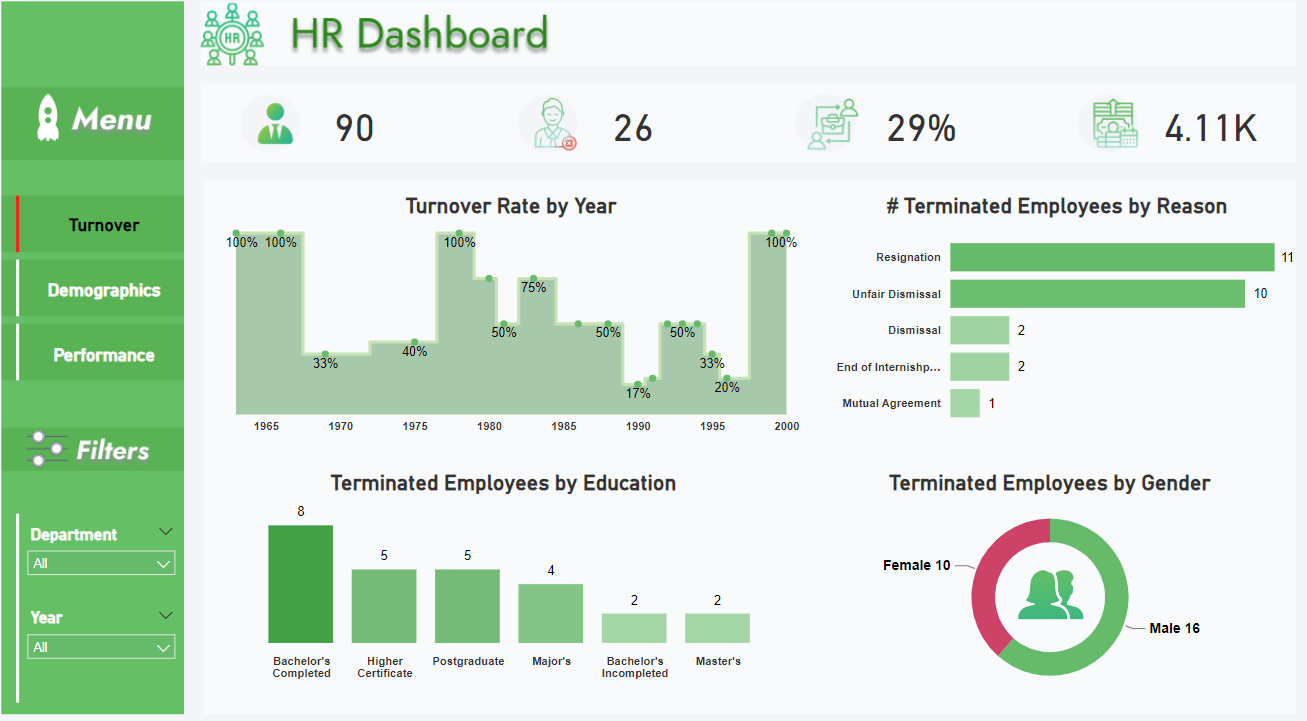

The dashboard page shown, as its layout file describes it:
{"tool":"powerbi","page":{"name":"Turnover","canvas":[1280,720],"ordinal":0},"visuals":[{"type":"lineChart","fields":{"Y":["_Measures_.Turnover Rate"],"Category":["HR (Fact).Birth Date.Variation.Date Hierarchy.Year","HR (Fact).Birth Date.Variation.Date Hierarchy.Quarter","HR (Fact).Birth Date.Variation.Date Hierarchy.Month","HR (Fact).Birth Date.Variation.Date Hierarchy.Day"]},"box":[226.2,189.3,570.2,248.8],"z":0},{"type":"card","fields":{"Values":["_Measures_.Total Employees"]},"box":[330,102.5,65,56.2],"z":1000},{"type":"card","fields":{"Values":["_Measures_.Turned Employees"]},"box":[595,102.5,65,56.2],"z":2000},{"type":"card","fields":{"Values":["_Measures_.Turnover Rate"]},"box":[855,102.5,95,56.2],"z":3000},{"type":"card","fields":{"Values":["_Measures_.Salay AVG"]},"box":[1131.2,102.5,93.8,56.2],"z":4000},{"type":"pageNavigator","box":[50,192.5,148.8,193.8],"z":5000},{"type":"slicer","fields":{"Values":["Department Bridge (Dim).Department"]},"box":[36.2,505,171.2,71.2],"z":6000},{"type":"slicer","fields":{"Values":["HR (Fact).Hire Date.Variation.Date Hierarchy.Year"]},"box":[36.2,585,171.2,71.2],"z":7000},{"type":"barChart","title":"# Terminated Employees by Reason","fields":{"Category":["HR (Fact).Termination Reason"],"Y":["_Measures_.Terminated Employees"]},"box":[796.4,189.3,470.2,245.2],"z":8000},{"type":"donutChart","title":"Terminated Employees by Gender","fields":{"Category":["HR (Fact).Gender"],"Y":["_Measures_.Terminated Employees"]},"box":[782.1,452.4,484.5,234.5],"z":9000},{"type":"image","box":[981,539.3,86.9,82.1],"z":10000},{"type":"clusteredColumnChart","fields":{"Y":["_Measures_.Terminated Employees"],"Category":["HR (Fact).Education"]},"box":[226.2,452.4,556,220.2],"z":11000}]}

Visuals, with their boxes in screenshot pixels (x1, y1, x2, y2), scaled from the page's 1280x720 canvas onto the 1307x721 screenshot:
lineChart - _Measures_.Turnover Rate x HR (Fact).Birth Date.Variation.Date Hierarchy.Year: x1=231, y1=190, x2=813, y2=439
card - _Measures_.Total Employees: x1=337, y1=103, x2=403, y2=159
card - _Measures_.Turned Employees: x1=608, y1=103, x2=674, y2=159
card - _Measures_.Turnover Rate: x1=873, y1=103, x2=970, y2=159
card - _Measures_.Salay AVG: x1=1155, y1=103, x2=1251, y2=159
pageNavigator: x1=51, y1=193, x2=203, y2=387
slicer - Department Bridge (Dim).Department: x1=37, y1=506, x2=212, y2=577
slicer - HR (Fact).Hire Date.Variation.Date Hierarchy.Year: x1=37, y1=586, x2=212, y2=657
"# Terminated Employees by Reason" barChart: x1=813, y1=190, x2=1293, y2=435
"Terminated Employees by Gender" donutChart: x1=799, y1=453, x2=1293, y2=688
image: x1=1002, y1=540, x2=1090, y2=622
clusteredColumnChart - _Measures_.Terminated Employees x HR (Fact).Education: x1=231, y1=453, x2=799, y2=674
